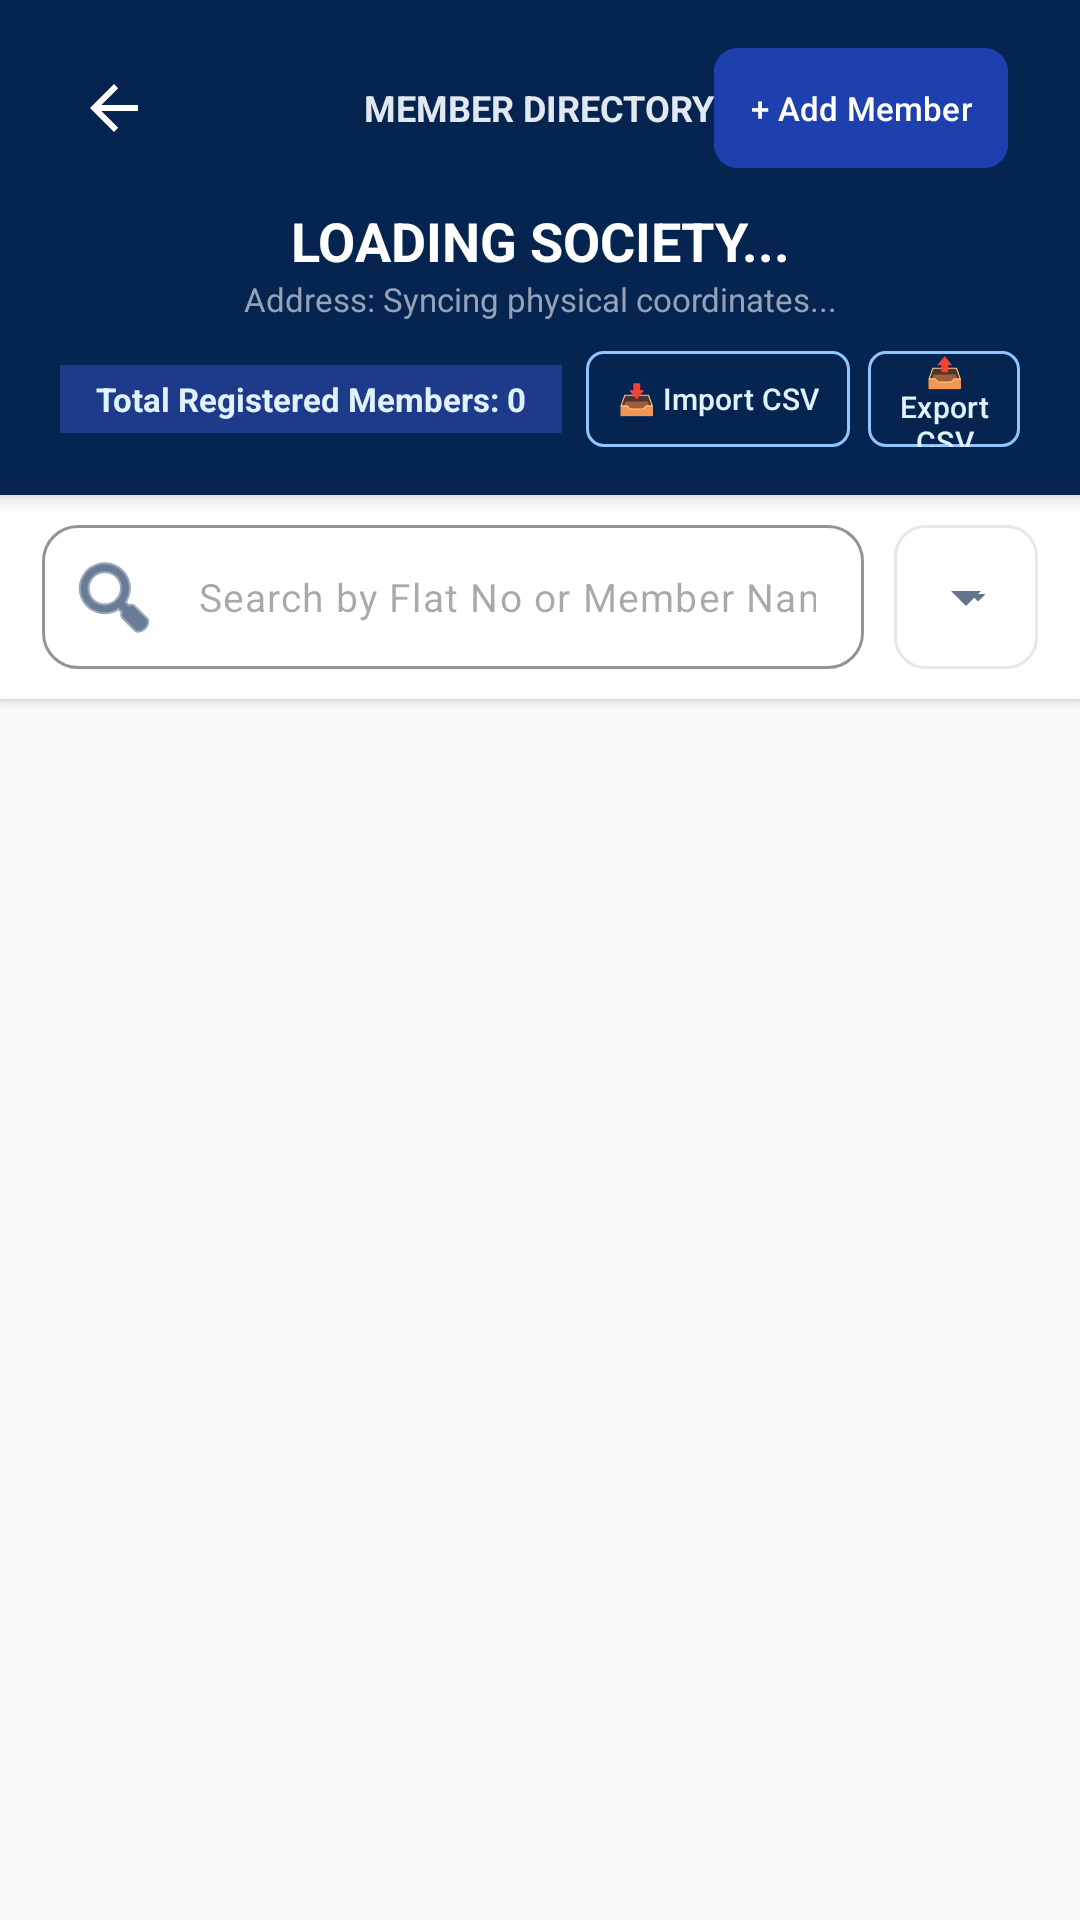

Screen size 1080px x 1920px. Icon name, then its box in pixels as (x1, y1, x2, y2):
ab back: (90, 84, 138, 132)
